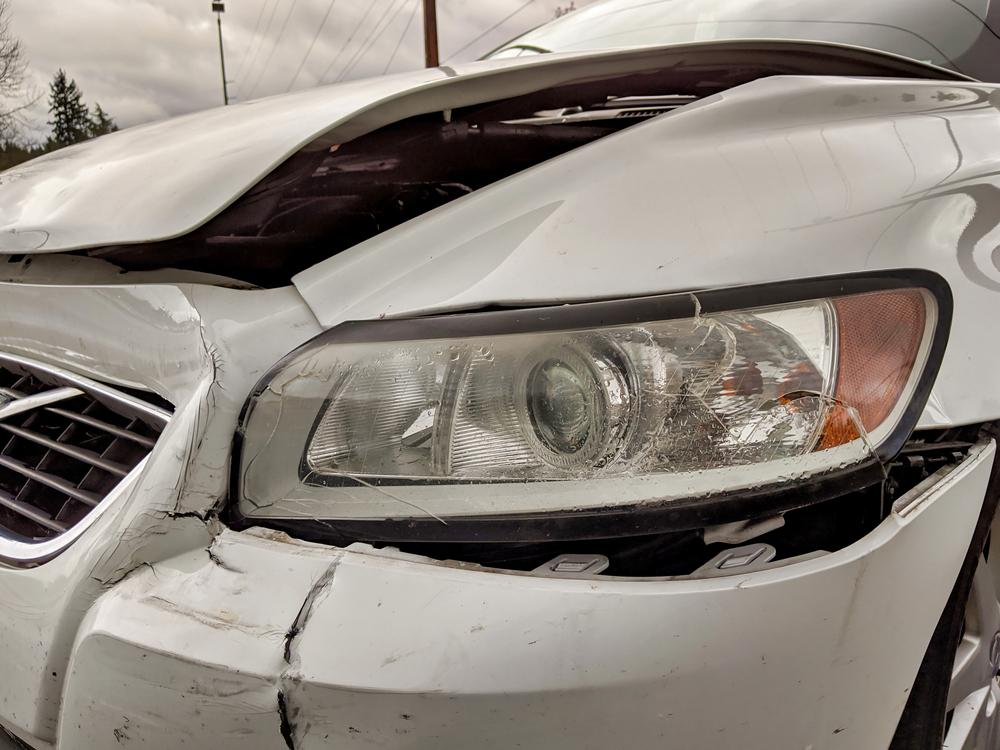crack: (274, 552, 348, 750), (155, 500, 222, 527)
lamp broken: (231, 275, 952, 548)
scratch: (97, 552, 288, 750)
